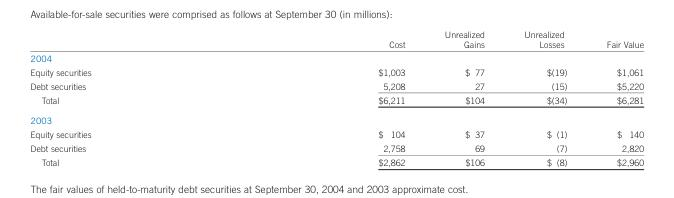table: (29, 29, 643, 166)
table column: (29, 29, 234, 166), (234, 29, 424, 166), (503, 29, 586, 166), (424, 29, 503, 166), (586, 29, 643, 166)
table column header: (29, 29, 643, 50)
table projected row header: (29, 109, 643, 127), (29, 50, 643, 64)
table row: (29, 29, 643, 50), (29, 109, 643, 127), (29, 92, 643, 109), (29, 50, 643, 64), (29, 64, 643, 78), (29, 78, 643, 92), (29, 140, 643, 154), (29, 127, 643, 140), (29, 154, 643, 166)
